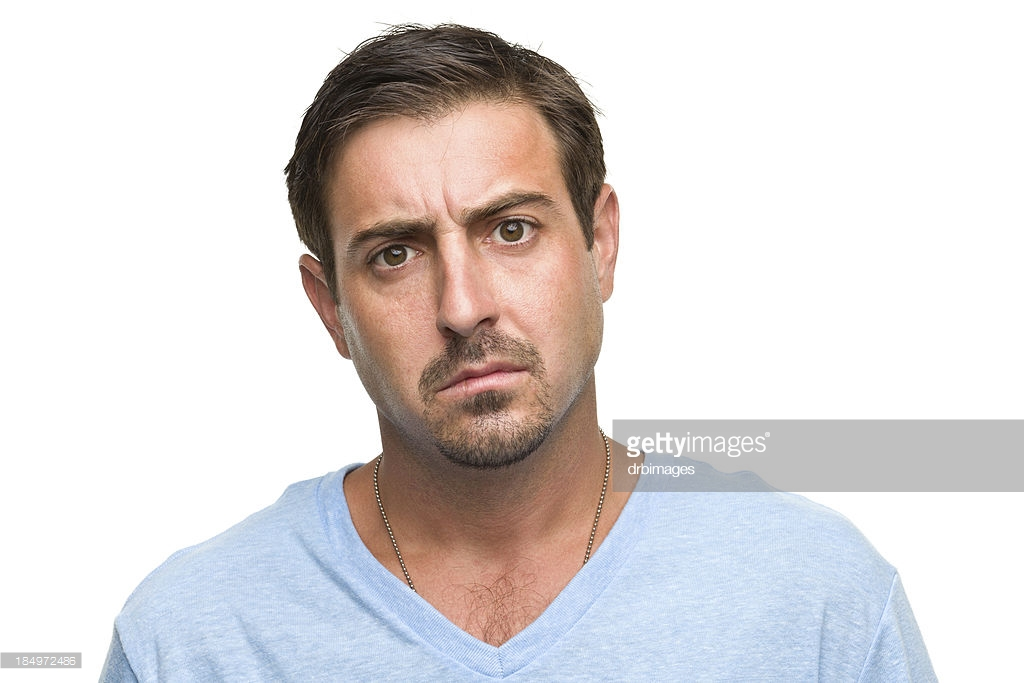sad: (295, 98, 626, 463)
